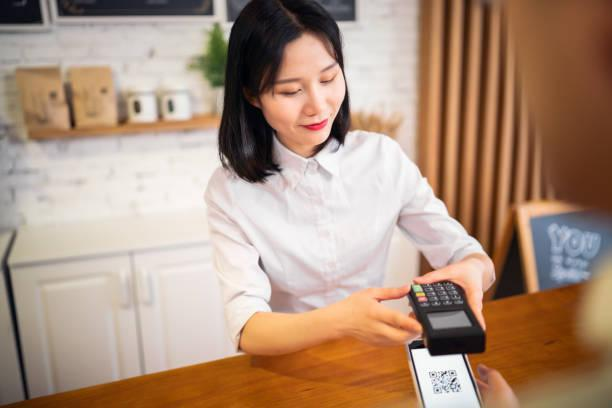Finder pattern: (430, 383, 444, 395), (446, 367, 459, 379), (426, 369, 439, 380)
